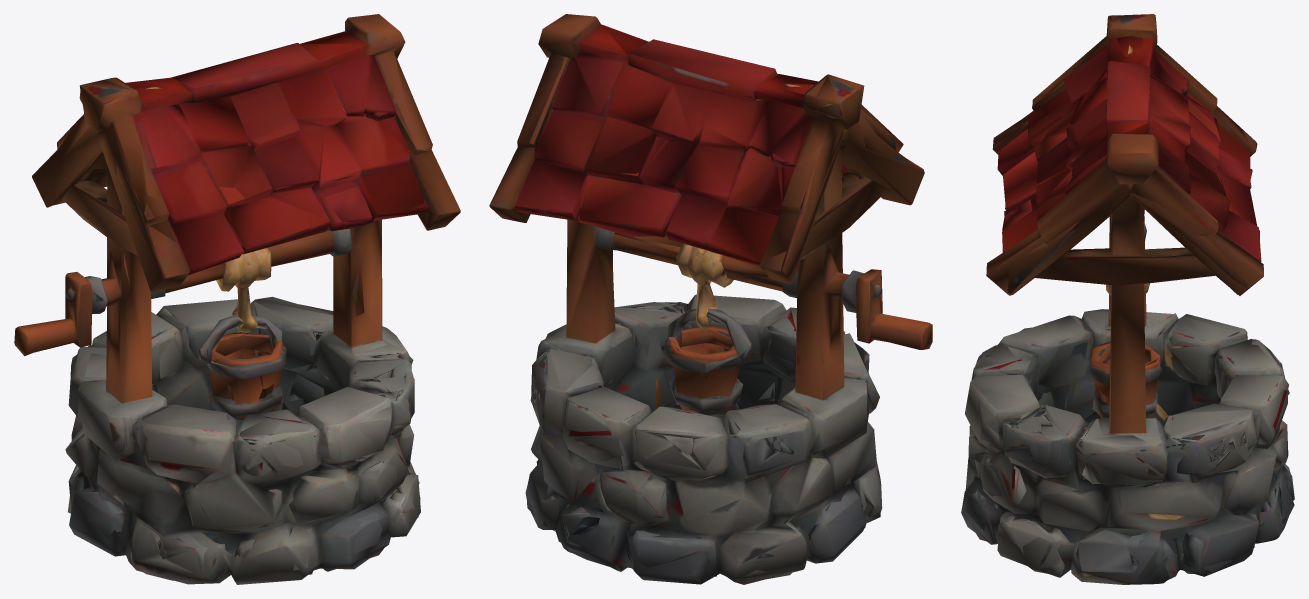
File: well.glb
3 renders of one model, left to right at view 1: azimuth 30°, elevation 25°; view 2: azimuth 150°, elevation 25°; view 3: azimuth 270°, elevation 25°, orthographic. The views are drawn at different scales.
Visible parts, largest first — view 1: Mesh_0; view 2: Mesh_0; view 3: Mesh_0.
Part boxes in pixels (bbox=[...]): Mesh_0: bbox=[14, 14, 460, 584]; Mesh_0: bbox=[489, 14, 932, 584]; Mesh_0: bbox=[961, 14, 1294, 584].
Bounding box in the file's own units: 1.45 × 1.69 × 1.17.
Materials: 1 (1 with a texture image).
